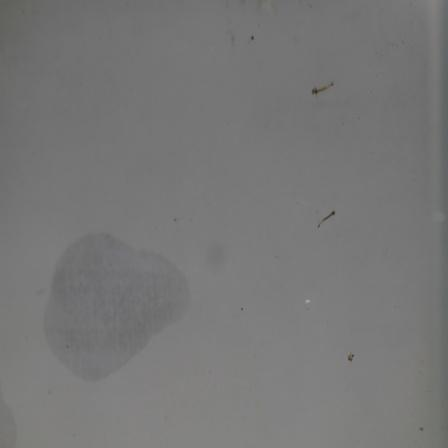Jentik-Nyamuk: (305, 77, 338, 99), (316, 207, 338, 232)
